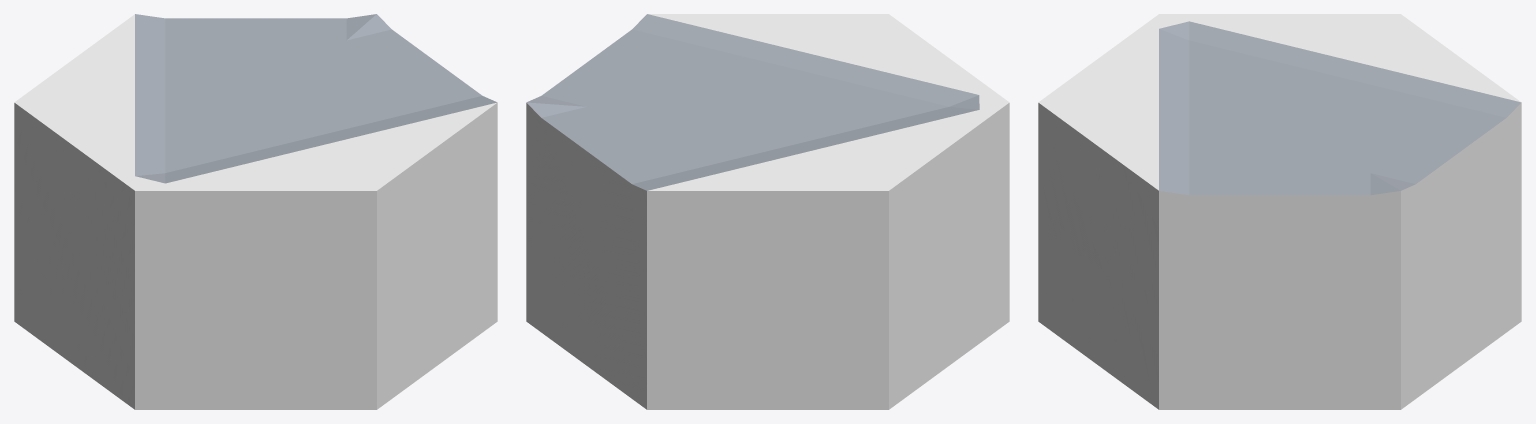
File: snow_road3.fbx
3 renders of one model, left to right at view 1: azimuth 30°, elevation 25°; view 2: azimuth 150°, elevation 25°; view 3: azimuth 270°, elevation 25°, orthographic.
Parts seen in each view (by area): view 1: Cylinder; view 2: Cylinder; view 3: Cylinder.
Part boxes in pixels (x1,y1,x2,y2): Cylinder: (14,14,497,409); Cylinder: (526,14,1009,409); Cylinder: (1038,14,1521,409).
Bounding box in the file's own units: 1.73 × 1 × 2.
